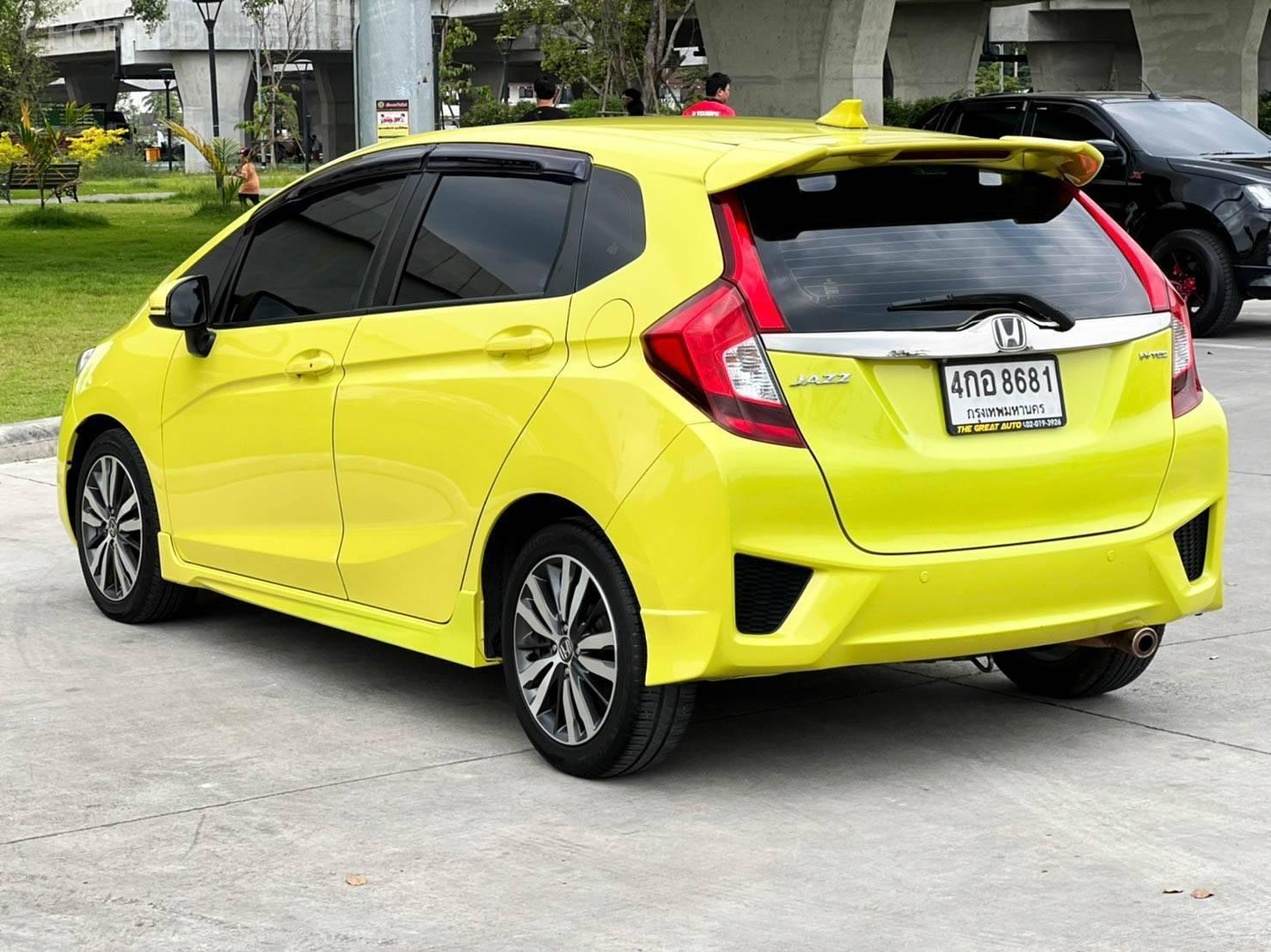license-plate: (939, 351, 1072, 438)
